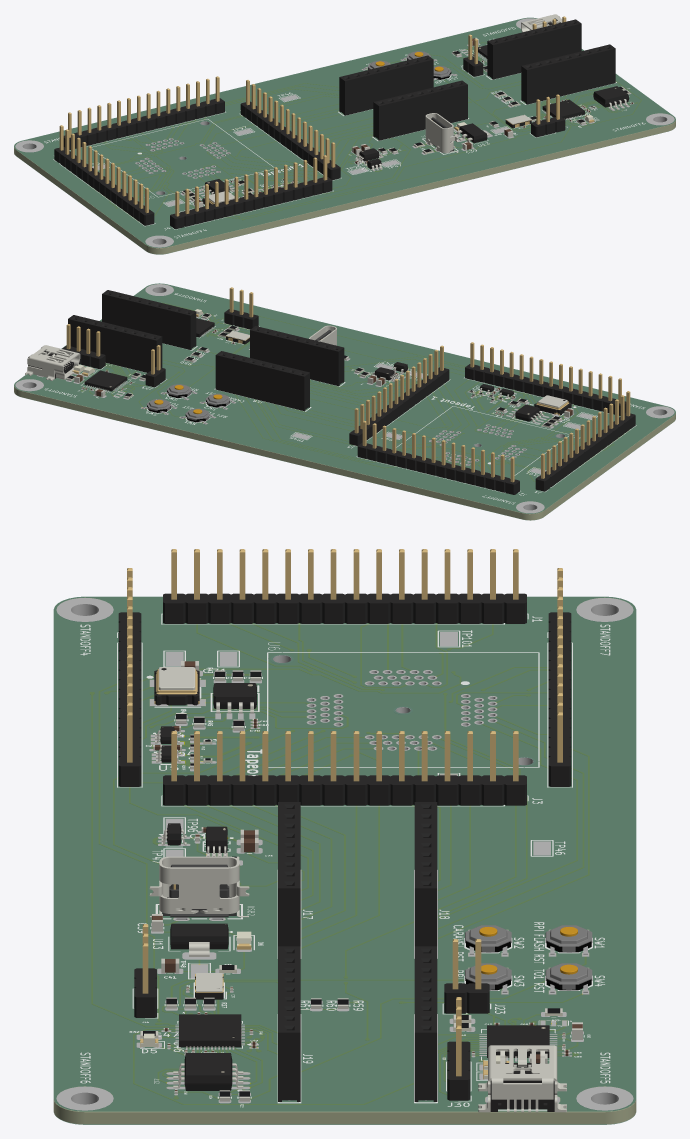
3 renders of one model, top to bottom at view 1: azimuth 30°, elevation 25°; view 2: azimuth 150°, elevation 25°; view 3: azimuth 270°, elevation 25°, orthographic. The views are drawn at different scales.
Visible parts, largest first — view 1: =>[0:1:1:32], =>[0:1:1:34], J4, J2, J19, J17, J18, J20, J1, J3, =>[0:1:1:29], =>[0:1:1:31] (+8 smaller); view 2: =>[0:1:1:32], =>[0:1:1:34], J2, J4, J18, J19, J17, J1, J3, =>[0:1:1:29], J20, =>[0:1:1:31] (+9 smaller); view 3: =>[0:1:1:32], =>[0:1:1:34], J1, J3, =>[0:1:1:29], =>[0:1:1:31], =>[0:1:1:28], USB2, USB3, J2, J4, J20 (+16 smaller).
Boxes of the visible parts, bbox=[...] form: =>[0:1:1:32]: bbox=[14, 17, 675, 248]; =>[0:1:1:34]: bbox=[14, 18, 675, 254]; J4: bbox=[170, 155, 332, 228]; J2: bbox=[63, 76, 224, 150]; J19: bbox=[521, 44, 615, 104]; J17: bbox=[373, 80, 467, 140]; J18: bbox=[339, 55, 433, 115]; J20: bbox=[487, 19, 581, 79]; J1: bbox=[54, 125, 154, 225]; J3: bbox=[240, 80, 340, 180]; =>[0:1:1:29]: bbox=[15, 18, 674, 247]; =>[0:1:1:31]: bbox=[44, 27, 645, 238]; =>[0:1:1:32]: bbox=[14, 283, 675, 513]; =>[0:1:1:34]: bbox=[14, 284, 675, 520]; J2: bbox=[357, 421, 519, 494]; J4: bbox=[465, 342, 626, 415]; J18: bbox=[215, 351, 309, 411]; J19: bbox=[102, 290, 196, 349]; J17: bbox=[250, 326, 344, 385]; J1: bbox=[535, 391, 635, 491]; J3: bbox=[349, 345, 449, 445]; =>[0:1:1:29]: bbox=[15, 284, 674, 513]; J20: bbox=[68, 315, 162, 372]; =>[0:1:1:31]: bbox=[44, 293, 645, 504]; =>[0:1:1:32]: bbox=[53, 596, 636, 1111]; =>[0:1:1:34]: bbox=[53, 597, 636, 1124]; J1: bbox=[163, 549, 526, 623]; J3: bbox=[163, 731, 526, 805]; =>[0:1:1:29]: bbox=[56, 598, 633, 1110]; =>[0:1:1:31]: bbox=[80, 613, 610, 1110]; =>[0:1:1:28]: bbox=[90, 623, 588, 1104]; USB2: bbox=[149, 856, 249, 917]; USB3: bbox=[478, 1045, 566, 1112]; J2: bbox=[548, 568, 571, 786]; J4: bbox=[118, 568, 141, 786]; J20: bbox=[414, 946, 437, 1101].
Bounding box in the file's own units: 0.1362 × 0.0116 × 0.065.
